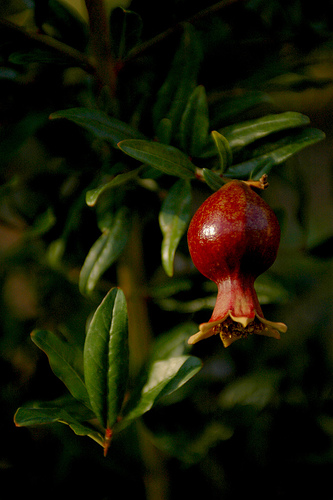pomogranate: (184, 180, 286, 355)
